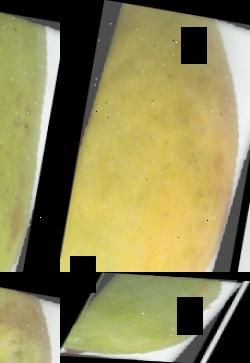PartiallyRipe: (60, 0, 250, 272), (0, 272, 60, 363)
Unripe: (0, 0, 60, 272), (60, 272, 236, 363)
